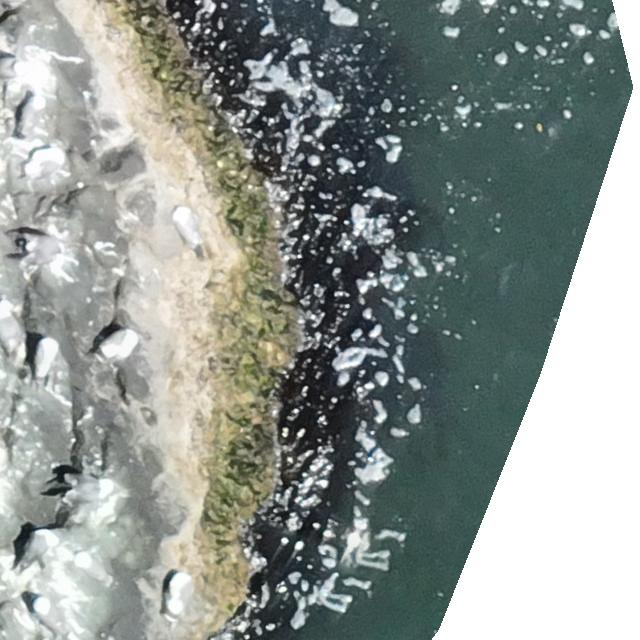umineko: (16, 527, 57, 577), (54, 476, 113, 509), (173, 204, 204, 256), (17, 229, 64, 263), (162, 570, 193, 616), (21, 144, 64, 174), (97, 329, 137, 361), (19, 96, 46, 141), (33, 596, 62, 634), (35, 337, 57, 379), (0, 52, 30, 79)
